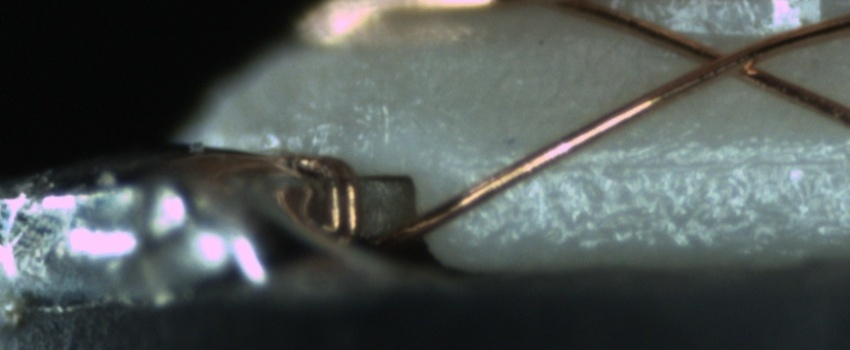CL: (689, 35, 776, 86)
DL: (498, 130, 849, 194)
TE: (285, 148, 367, 241)
